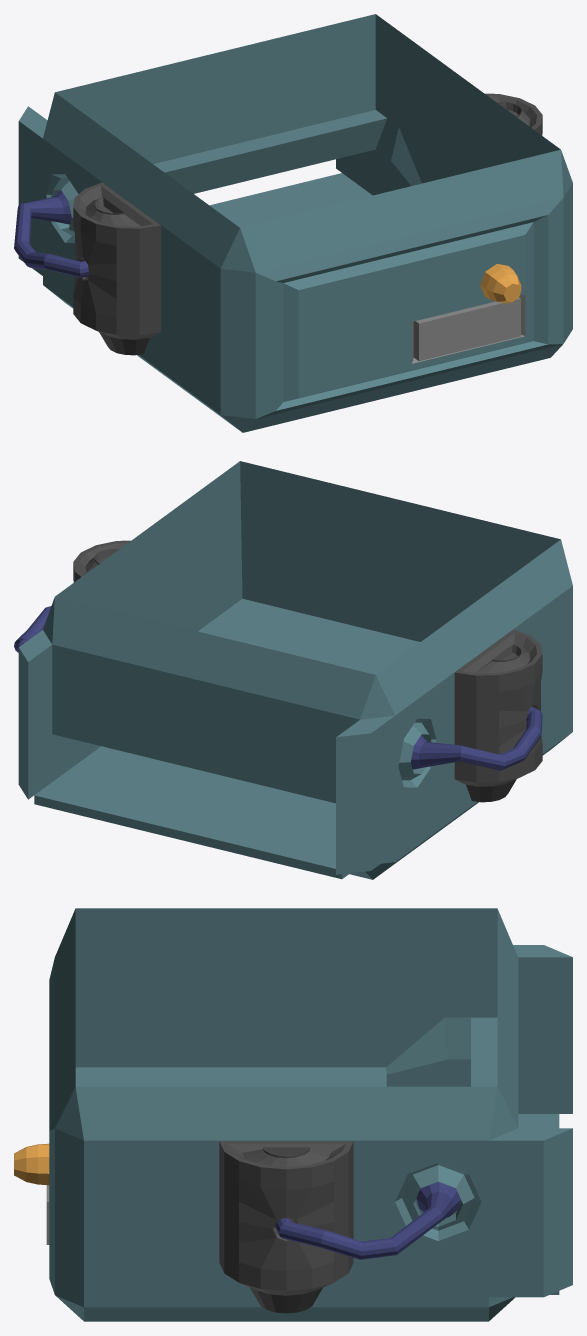
The model's file is concasseur (1).fbx.
The picture shows the model from 3 angles, top to bottom: view 1: azimuth 30°, elevation 25°; view 2: azimuth 150°, elevation 25°; view 3: azimuth 270°, elevation 25°; orthographic projection. The views are drawn at different scales.
Visible parts, largest first — view 1: concasseur; view 2: concasseur; view 3: concasseur.
Part boxes in pixels (x1,y1,x2,y2): concasseur: [14, 14, 572, 432]; concasseur: [14, 461, 572, 879]; concasseur: [14, 908, 572, 1321].
Size of the model in its own units: 284 by 114 by 241.
